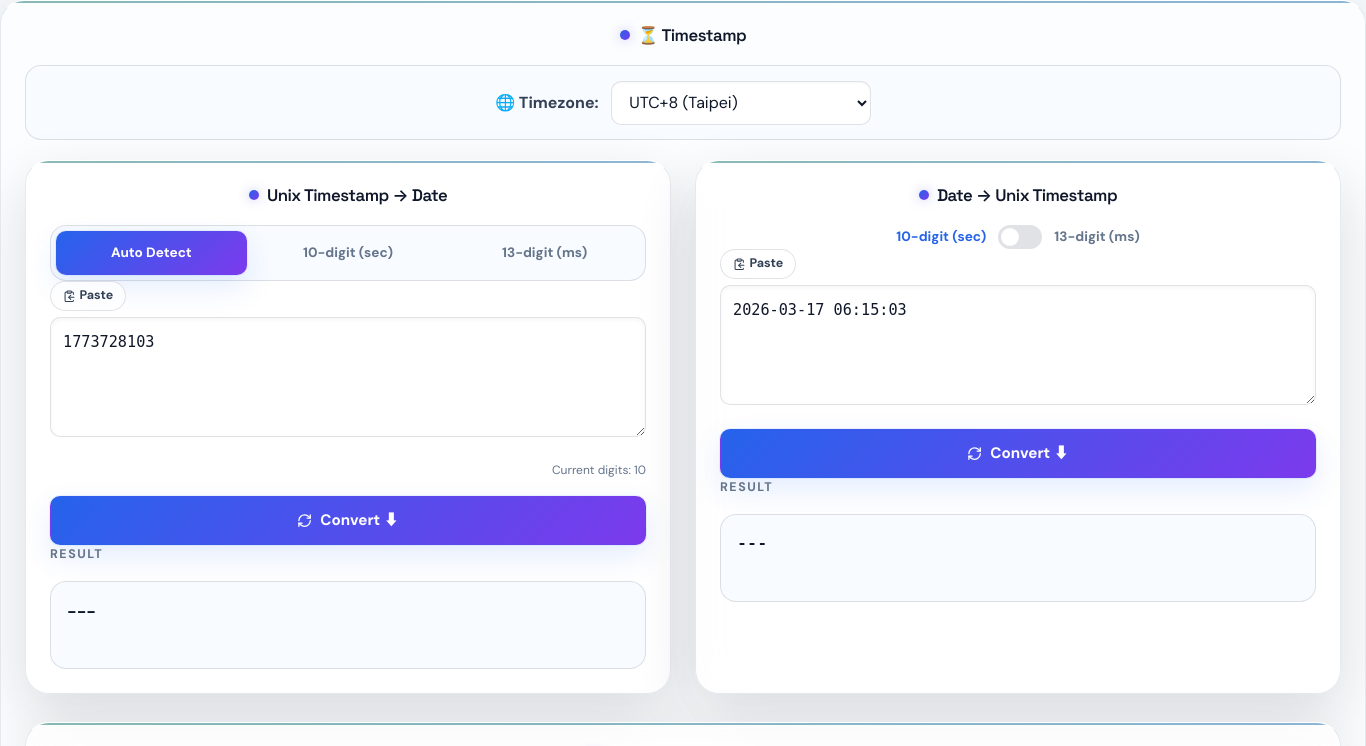
Test: TimestampConverter.vue › 轉換功能 › 無效時間戳應顯示錯誤碼
Replace the text in the text box with id "timestamp-input" with "invalid" at [348, 377], box [50, 317, 646, 437]
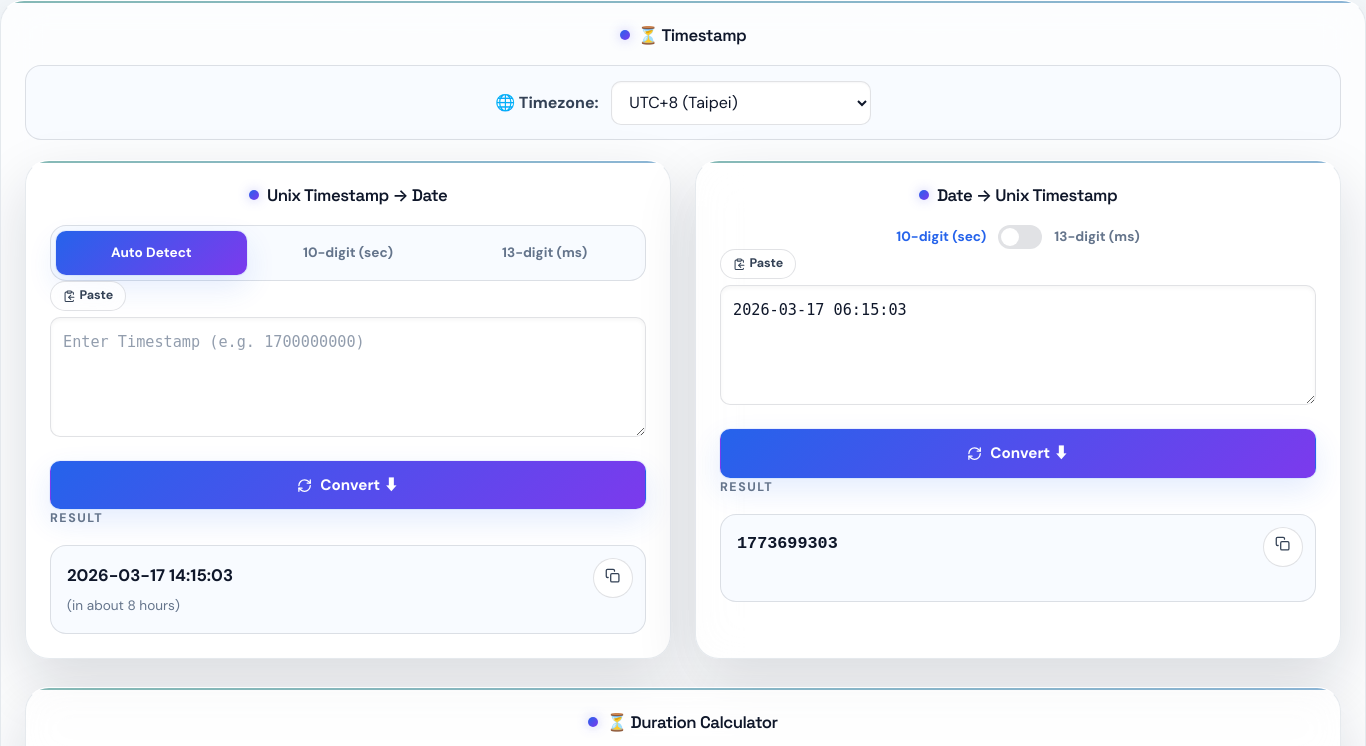
Click the button "Convert ⬇" below "Auto Detect" at [348, 485], box [50, 461, 646, 510]
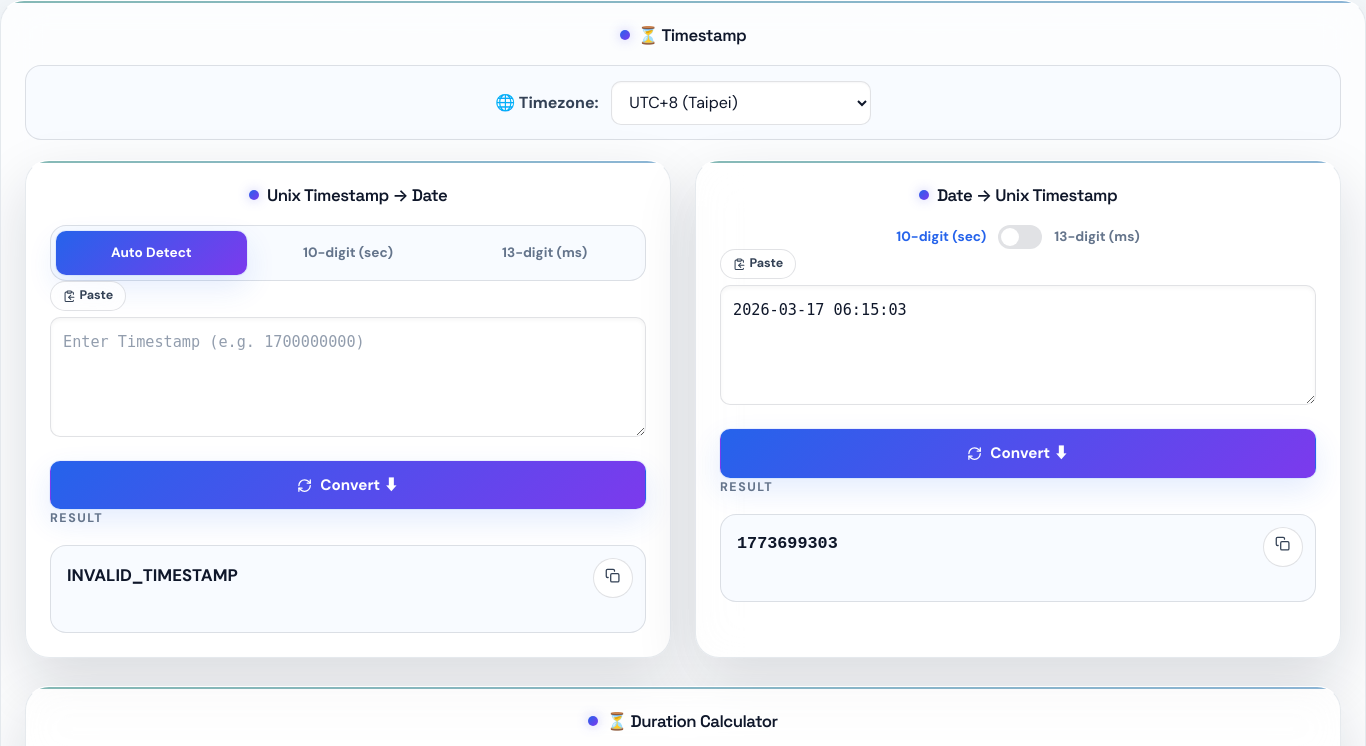
Result: the text with class "result-text" shows "INVALID_" at [67, 564, 238, 586]
